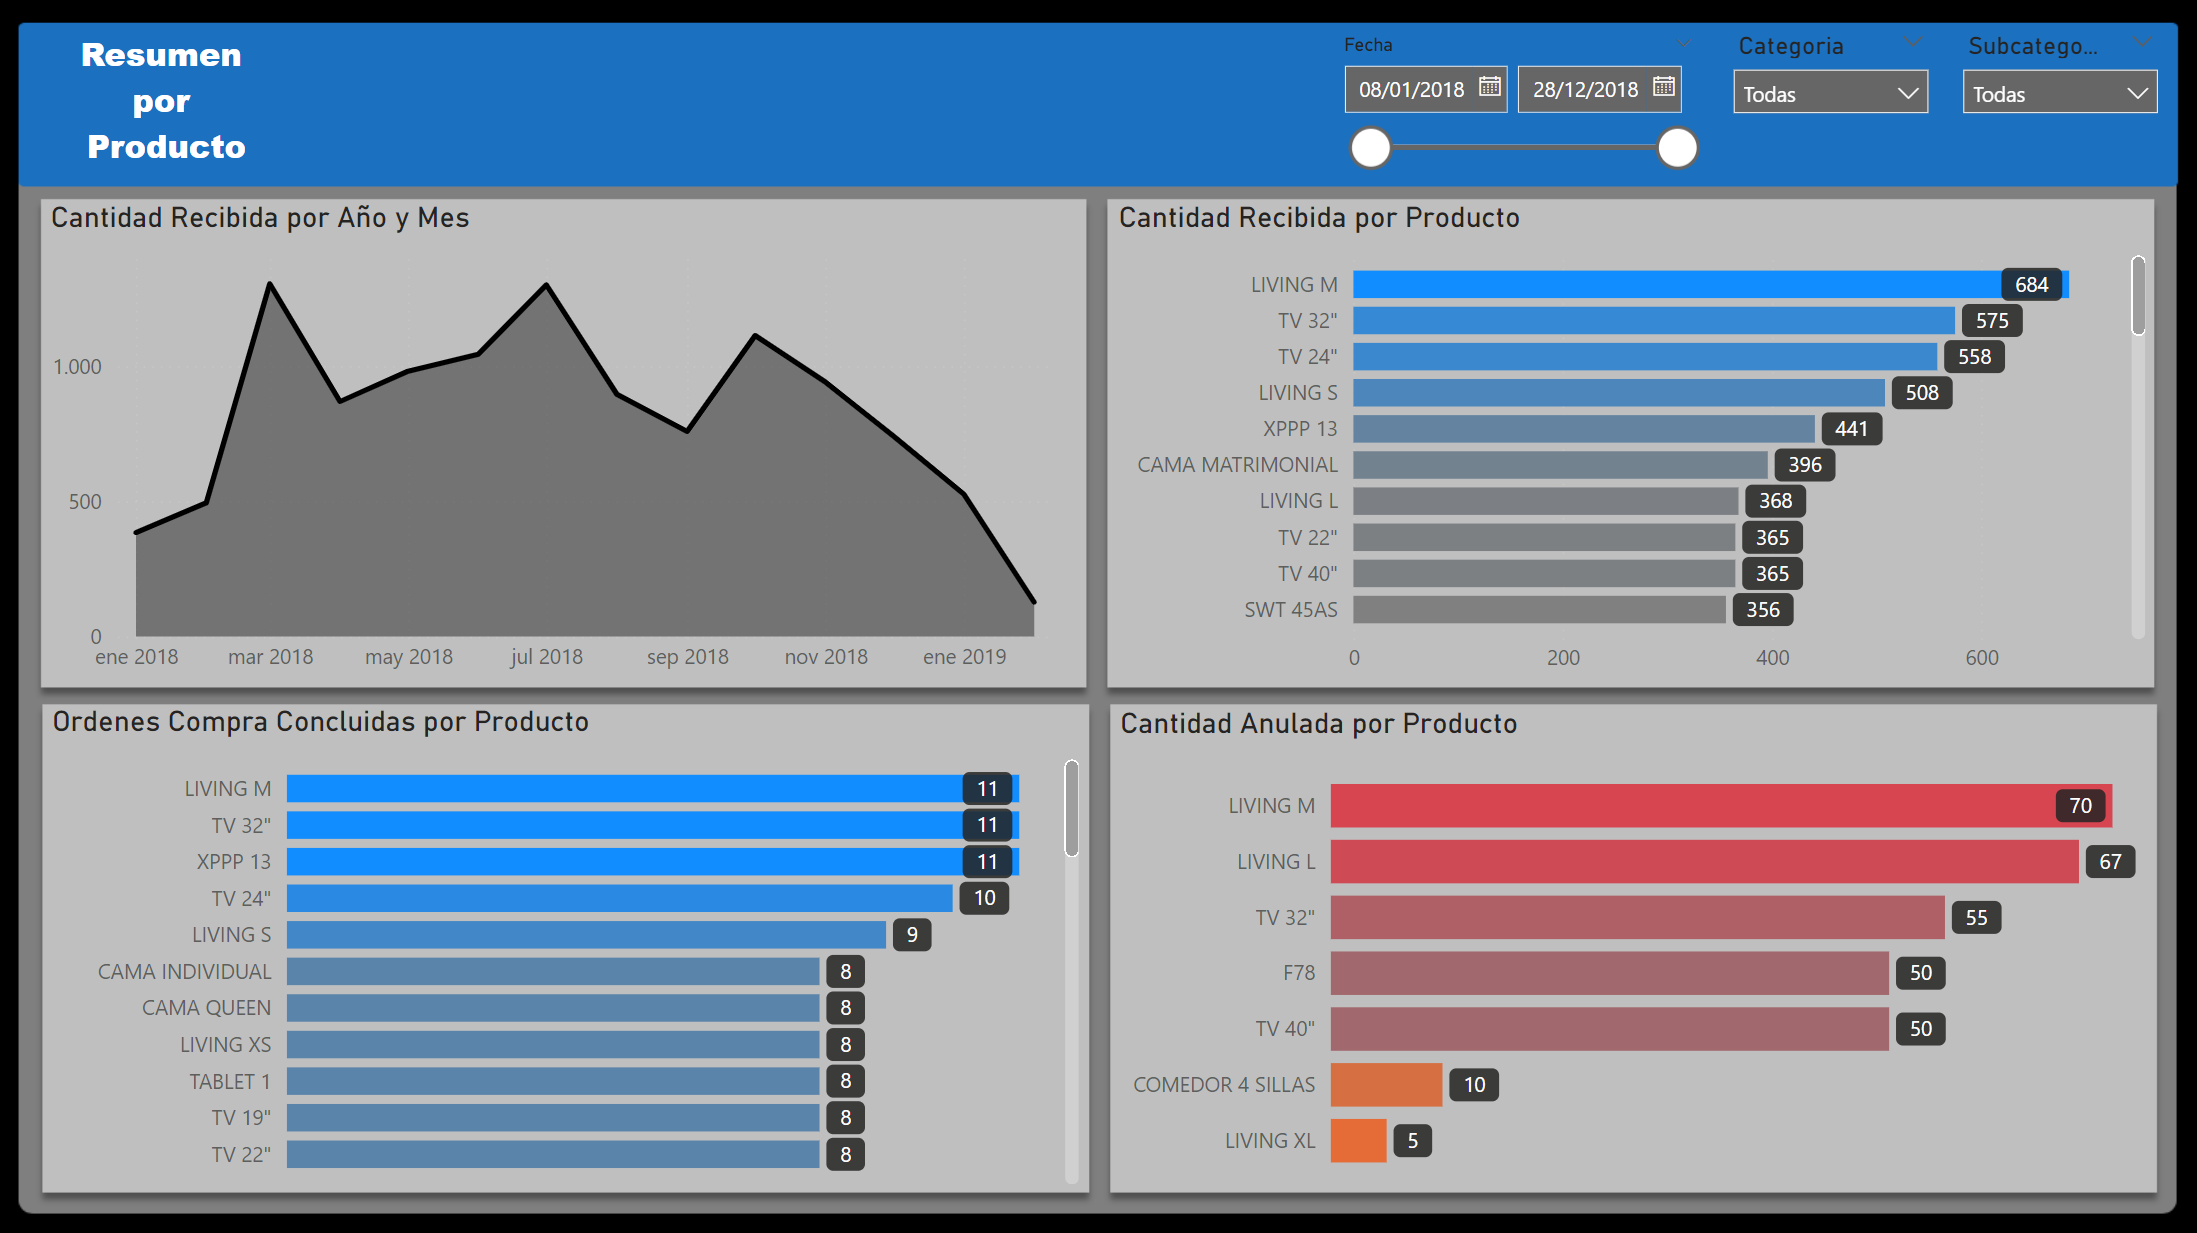

The page's visual inventory and layout, read from the dashboard file:
{"tool":"powerbi","page":{"name":"Resumen Producto","canvas":[1280,720],"ordinal":2},"visuals":[{"type":"slicer","fields":{"Values":["ORDENES.Fecha"]},"box":[770,15.1,228.1,93.3],"z":0},{"type":"slicer","fields":{"Values":["PRODUCTOS.Categoria"]},"box":[999.6,12.9,133.2,95.2],"z":1000},{"type":"slicer","fields":{"Values":["PRODUCTOS.Subcategoria"]},"box":[1132.8,12.9,133.2,95.8],"z":2000},{"type":"areaChart","fields":{"Y":["ORDENES.Cantidad Recibida"],"Category":["ORDENES.fecha_recibido.Variación.Jerarquía de fechas.Año","ORDENES.fecha_recibido.Variación.Jerarquía de fechas.Mes"]},"box":[25.2,117.3,606.6,283.7],"z":3000},{"type":"clusteredBarChart","fields":{"Y":["ÓRDENES.Cantidad Recibida"],"Category":["PRODUCTOS.Producto"]},"box":[646.5,117.2,606.8,284.2],"z":4000},{"type":"clusteredBarChart","fields":{"Category":["PRODUCTOS.Producto"],"Y":["ÓRDENES.Ordenes Compra Concluidas"]},"box":[25.8,410.2,606.8,284.2],"z":5000},{"type":"clusteredBarChart","fields":{"Category":["PRODUCTOS.Producto"],"Y":["ÓRDENES.Cantidad Anulada"]},"box":[647.1,410.8,606.8,284.2],"z":6000},{"type":"textbox","box":[12.1,12.7,170.2,94.3],"z":7000}]}

Visuals, with their boxes in screenshot pixels (x1, y1, x2, y2), scaled from the page's 1280x720 canvas onto the 2197x1233 screenshot:
slicer - ORDENES.Fecha: 1322, 26, 1713, 186
slicer - PRODUCTOS.Categoria: 1716, 22, 1944, 185
slicer - PRODUCTOS.Subcategoria: 1944, 22, 2173, 186
areaChart - ORDENES.Cantidad Recibida x ORDENES.fecha_recibido.Variación.Jerarquía de fechas.Año: 43, 201, 1084, 687
clusteredBarChart - ÓRDENES.Cantidad Recibida x PRODUCTOS.Producto: 1110, 201, 2151, 687
clusteredBarChart - PRODUCTOS.Producto x ÓRDENES.Ordenes Compra Concluidas: 44, 702, 1086, 1189
clusteredBarChart - PRODUCTOS.Producto x ÓRDENES.Cantidad Anulada: 1111, 703, 2152, 1190
textbox: 21, 22, 313, 183
